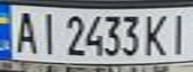2: (60, 11, 87, 57)
3: (121, 11, 142, 57), (103, 12, 124, 57)
4: (84, 11, 106, 57)
A: (9, 8, 39, 54)
I: (163, 9, 193, 56), (33, 9, 60, 56)
K: (139, 10, 172, 57)
